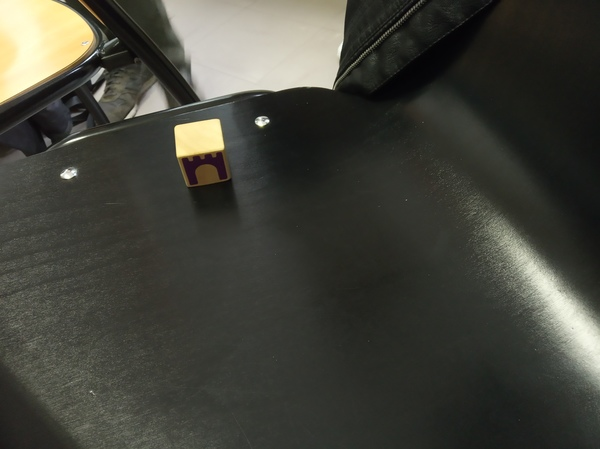violet: (174, 126, 234, 186)
